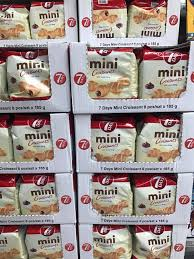7days: (87, 48, 137, 100), (139, 47, 186, 99), (7, 48, 51, 100), (90, 114, 134, 164), (90, 173, 133, 217)
